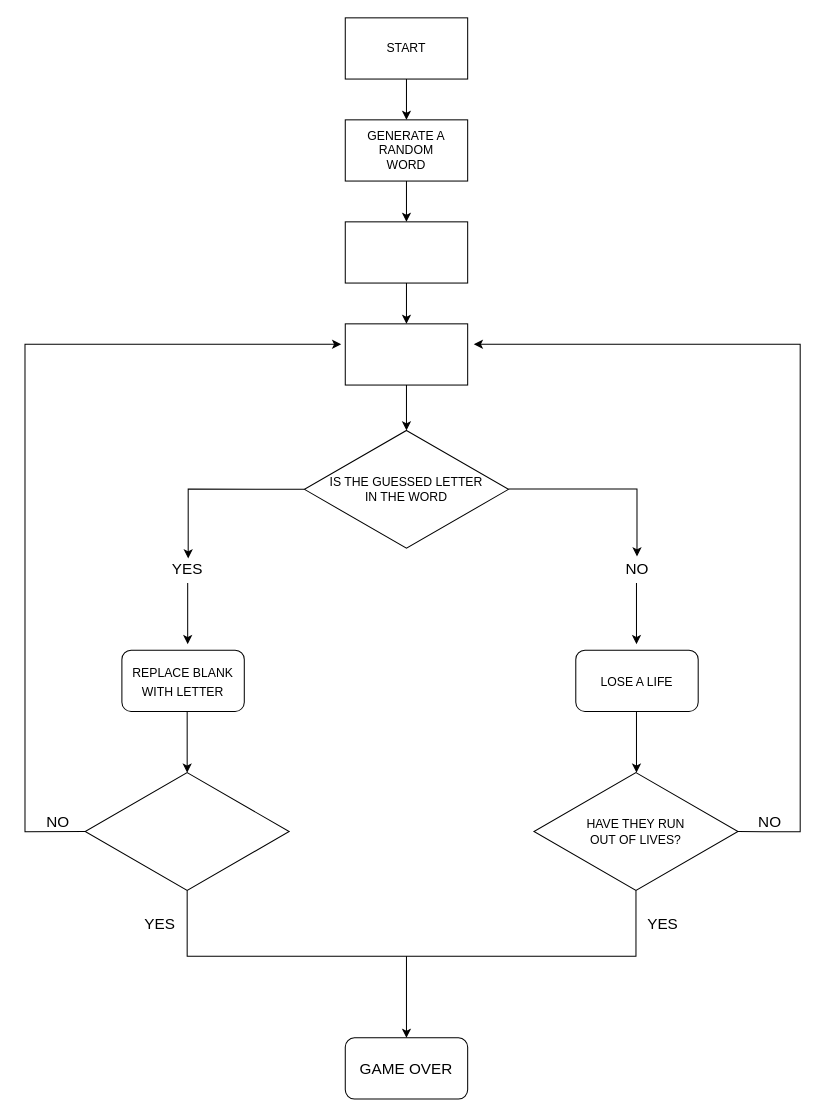
This 826x1117 diagram has some shape labels left out. The centre of each missing label's shape, as x and y in pixels:
"ARE ALL THE BLANKS FILLED?" belongs at point (186, 831).
"ASK THE USER TO GUESS A LETTER" belongs at point (406, 354).
"GENERATE SPACES FOR EVERY LETTER IN THE WORD" belongs at point (406, 252).
